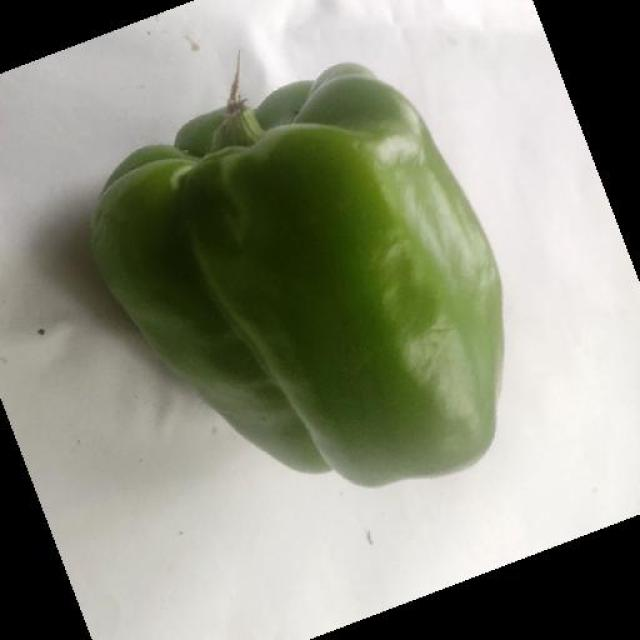Fresh_Capsicum: (175, 117, 494, 440)
